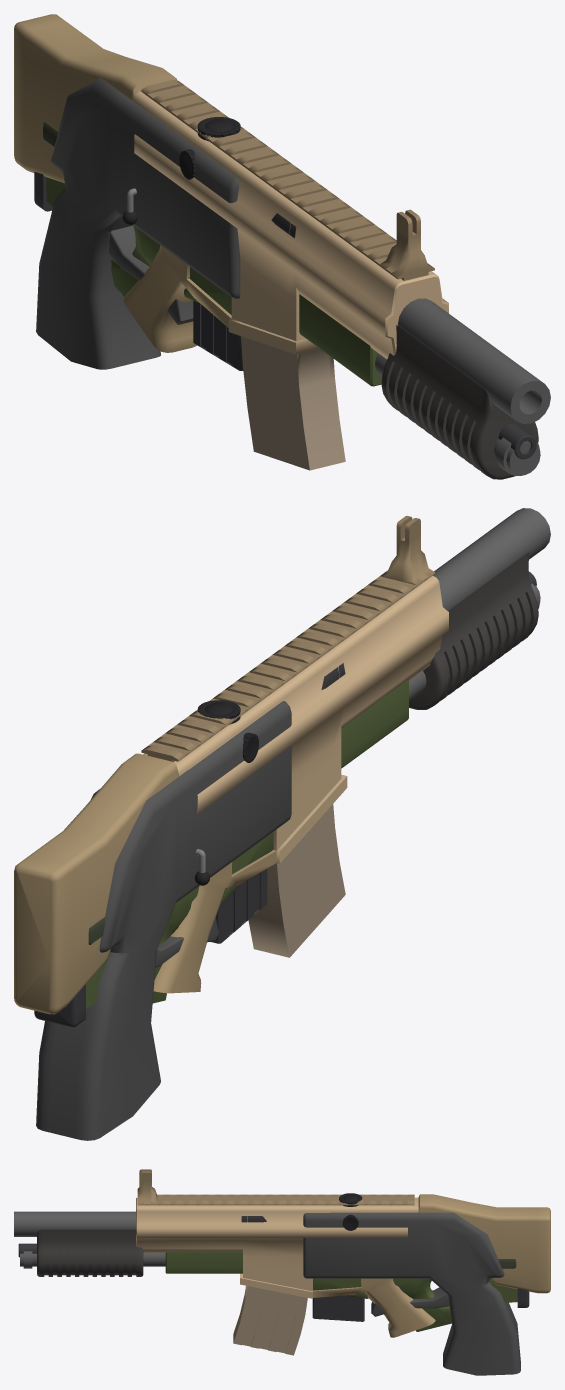
The model's file is guns.fbx.
The picture shows the model from 3 angles, top to bottom: view 1: azimuth 30°, elevation 25°; view 2: azimuth 150°, elevation 25°; view 3: azimuth 270°, elevation 25°; orthographic projection. The views are drawn at different scales.
Visible parts, largest first — view 1: riple, shotgun, sniper; view 2: riple, shotgun, sniper; view 3: riple, shotgun, sniper.
Part boxes in pixels (<box>): riple: <box>14,14,448,470</box>; shotgun: <box>36,77,550,479</box>; sniper: <box>34,117,536,459</box>; riple: <box>14,516,448,1014</box>; shotgun: <box>36,508,550,1140</box>; sniper: <box>34,571,536,1027</box>; riple: <box>136,1169,550,1355</box>; shotgun: <box>14,1211,520,1375</box>; sniper: <box>18,1193,529,1331</box>.
Bounding box in the file's own units: 0.1943 × 0.8939 × 2.21.
